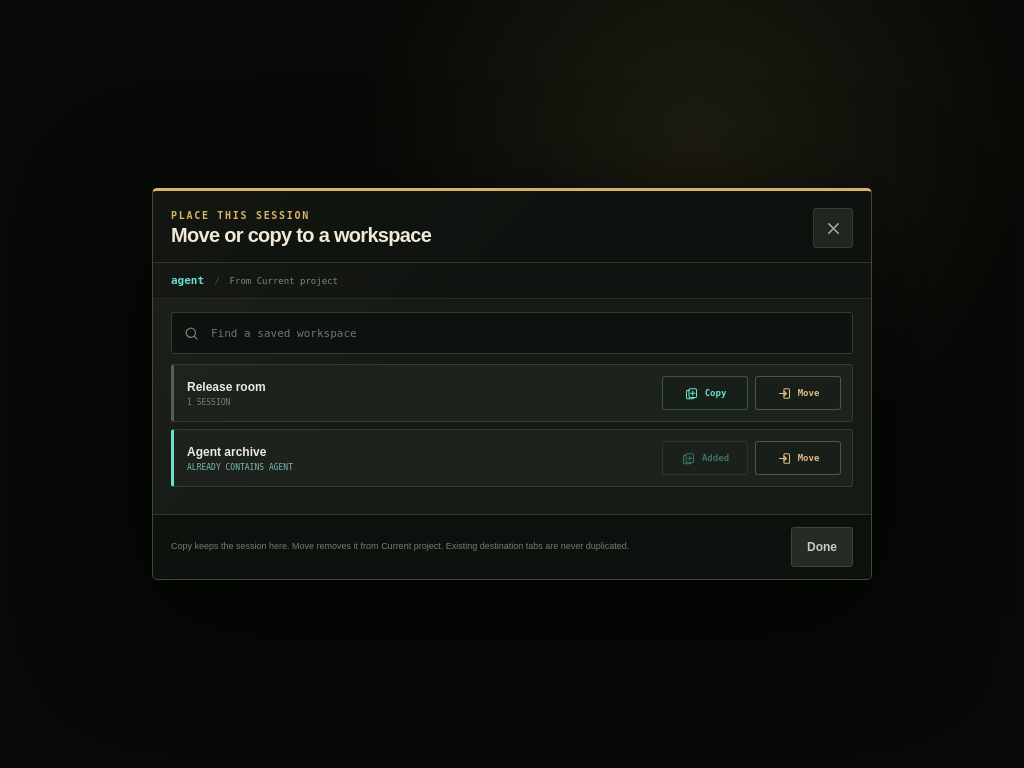
Test: SessionWorkspaceTransferDialog › filters out the source, copies once, and marks the destination as added
Check: the text "Release room" is shown, box [187, 380, 266, 394]
Check: the button with aria-label "agent is already in Agent archive" is disabled, box [662, 441, 748, 475]
Click the button with aria-label "Copy agent to Release room": coordinates (705, 393) [662, 376, 748, 410]
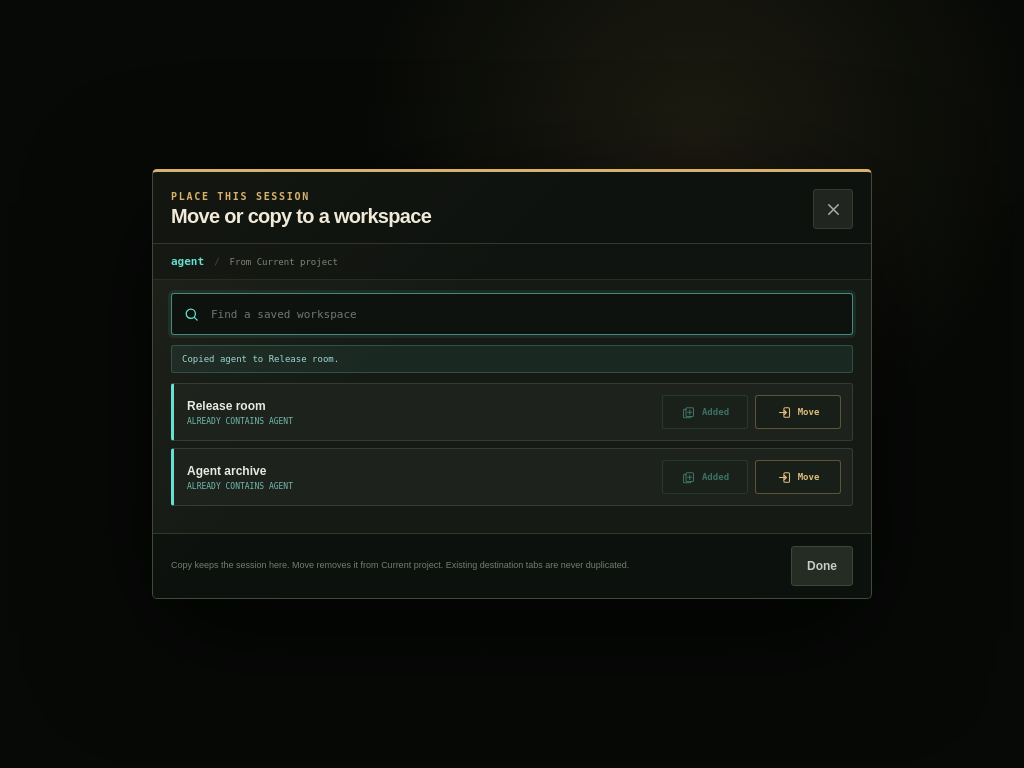
Check: the text "Copied agent to Release room." is shown, box [171, 345, 853, 373]
Check: the button with aria-label "agent is already in Release room" is disabled, box [662, 395, 748, 429]
